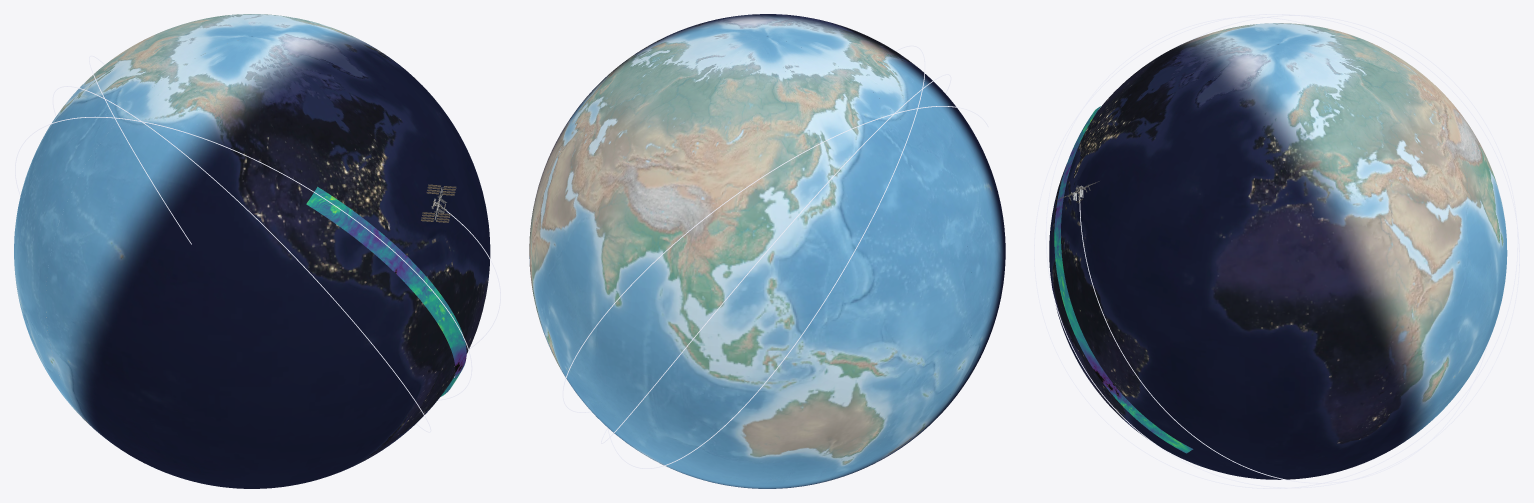
Rendered from awe-iss-globe-may2024.glb.
The picture shows the model from 3 angles, left to right: view 1: azimuth 30°, elevation 25°; view 2: azimuth 150°, elevation 25°; view 3: azimuth 270°, elevation 25°; orthographic projection. The views are drawn at different scales.
Visible parts, largest first — view 1: AWE_globe_20240526_mobile_smoke, AWE_swath_20240526_mobile_smoke, iss_orbit_merged_mesh_20240526_mobile_smoke; view 2: AWE_globe_20240526_mobile_smoke, iss_orbit_merged_mesh_20240526_mobile_smoke; view 3: AWE_globe_20240526_mobile_smoke, iss_orbit_merged_mesh_20240526_mobile_smoke, AWE_swath_20240526_mobile_smoke.
Part boxes in pixels (x1,y1,x2,y2): AWE_globe_20240526_mobile_smoke: (14, 14, 490, 488); AWE_swath_20240526_mobile_smoke: (306, 186, 466, 396); iss_orbit_merged_mesh_20240526_mobile_smoke: (15, 55, 500, 432); AWE_globe_20240526_mobile_smoke: (529, 14, 1005, 488); iss_orbit_merged_mesh_20240526_mobile_smoke: (562, 45, 988, 468); AWE_globe_20240526_mobile_smoke: (1049, 23, 1507, 479); iss_orbit_merged_mesh_20240526_mobile_smoke: (1034, 14, 1519, 488); AWE_swath_20240526_mobile_smoke: (1054, 106, 1193, 453).
Size of the model in its own units: 1.28 by 1.27 by 1.35.
Materials: 29 (27 with a texture image).
